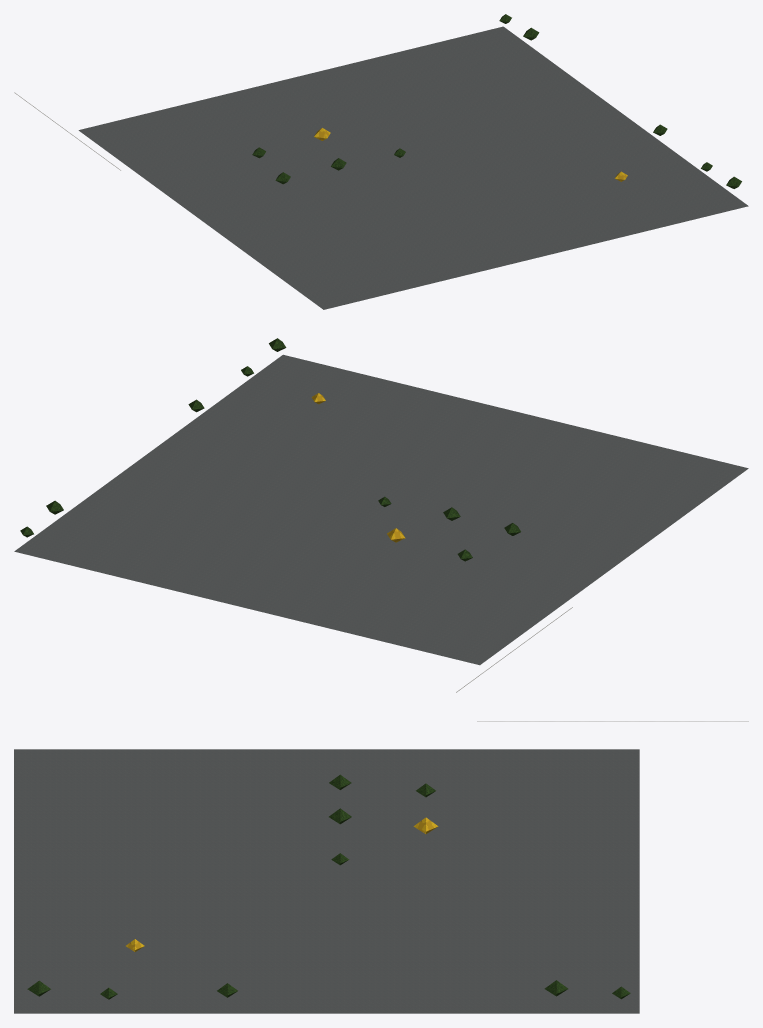
The model's file is cidade_S06_05_lod.gltf.
3 renders of one model, top to bottom at view 1: azimuth 30°, elevation 25°; view 2: azimuth 150°, elevation 25°; view 3: azimuth 270°, elevation 25°, orthographic. The views are drawn at different scales.
Visible parts, largest first — view 1: S06_05_Chao_LOD2, S06_05_Vegetacao_LOD2; view 2: S06_05_Chao_LOD2, S06_05_Vegetacao_LOD2; view 3: S06_05_Chao_LOD2, S06_05_Vegetacao_LOD2.
Boxes of the visible parts, <box> form: S06_05_Chao_LOD2: <box>78,26,748,309</box>; S06_05_Vegetacao_LOD2: <box>252,14,741,188</box>; S06_05_Chao_LOD2: <box>14,354,748,665</box>; S06_05_Vegetacao_LOD2: <box>20,338,520,561</box>; S06_05_Chao_LOD2: <box>14,749,639,1013</box>; S06_05_Vegetacao_LOD2: <box>27,774,630,999</box>.
Size of the model in its own units: 106 by 5.57 by 117.
Materials: 4 (4 with a texture image).
